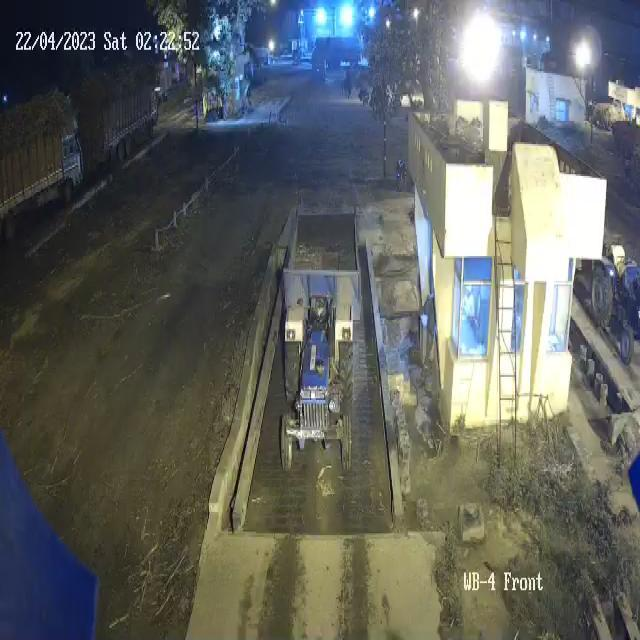Tratores - v5 YOLO V8L 2024-11-13: (276, 294, 358, 492), (588, 235, 638, 378)
